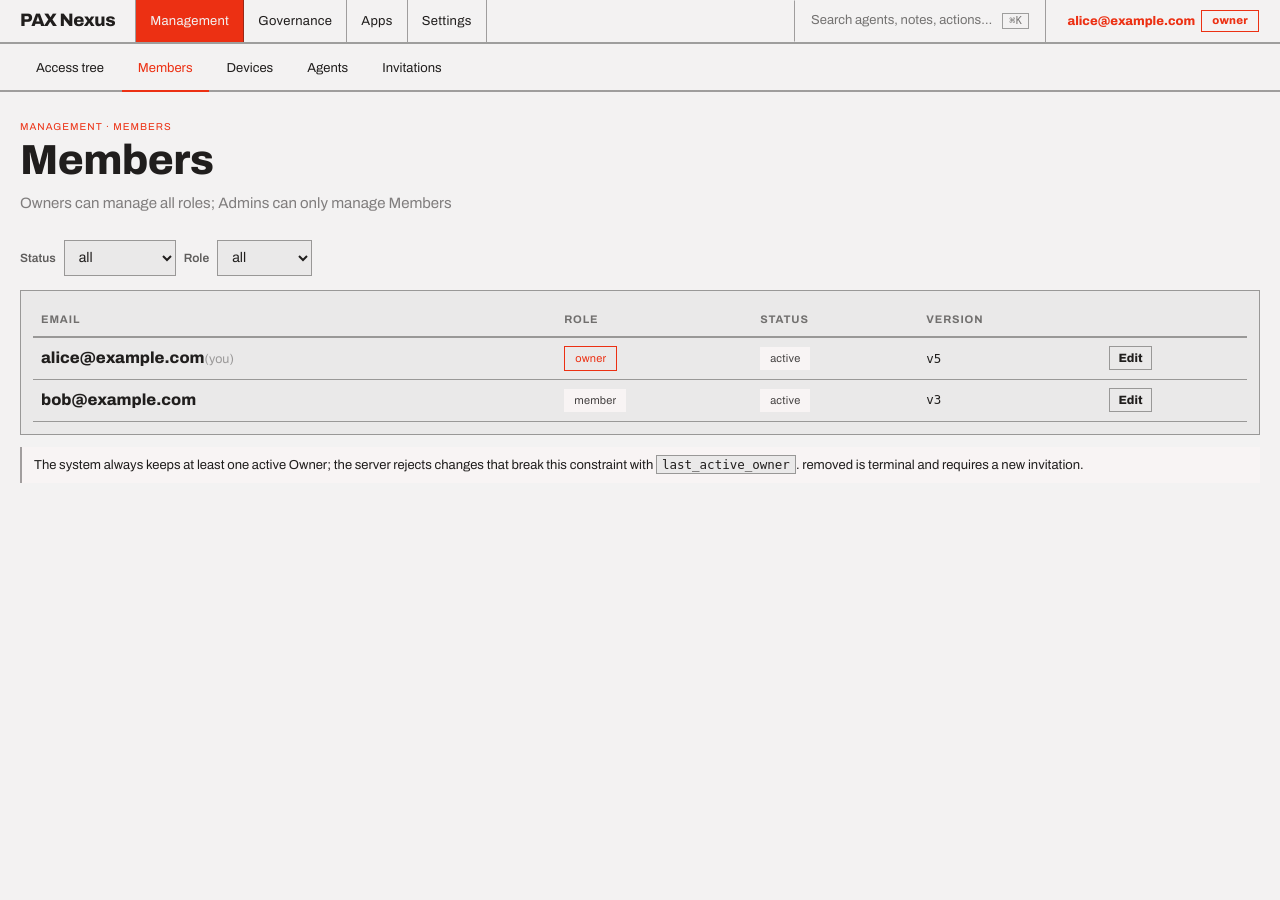
Scenario: section 10 item 7: concurrent member edits › resource_version_conflict refetches the member and refreshes the list
Step 1. Click the button "Edit" in the row of "bob@example.com" → click(1131, 400), box [1110,388,1152,412]
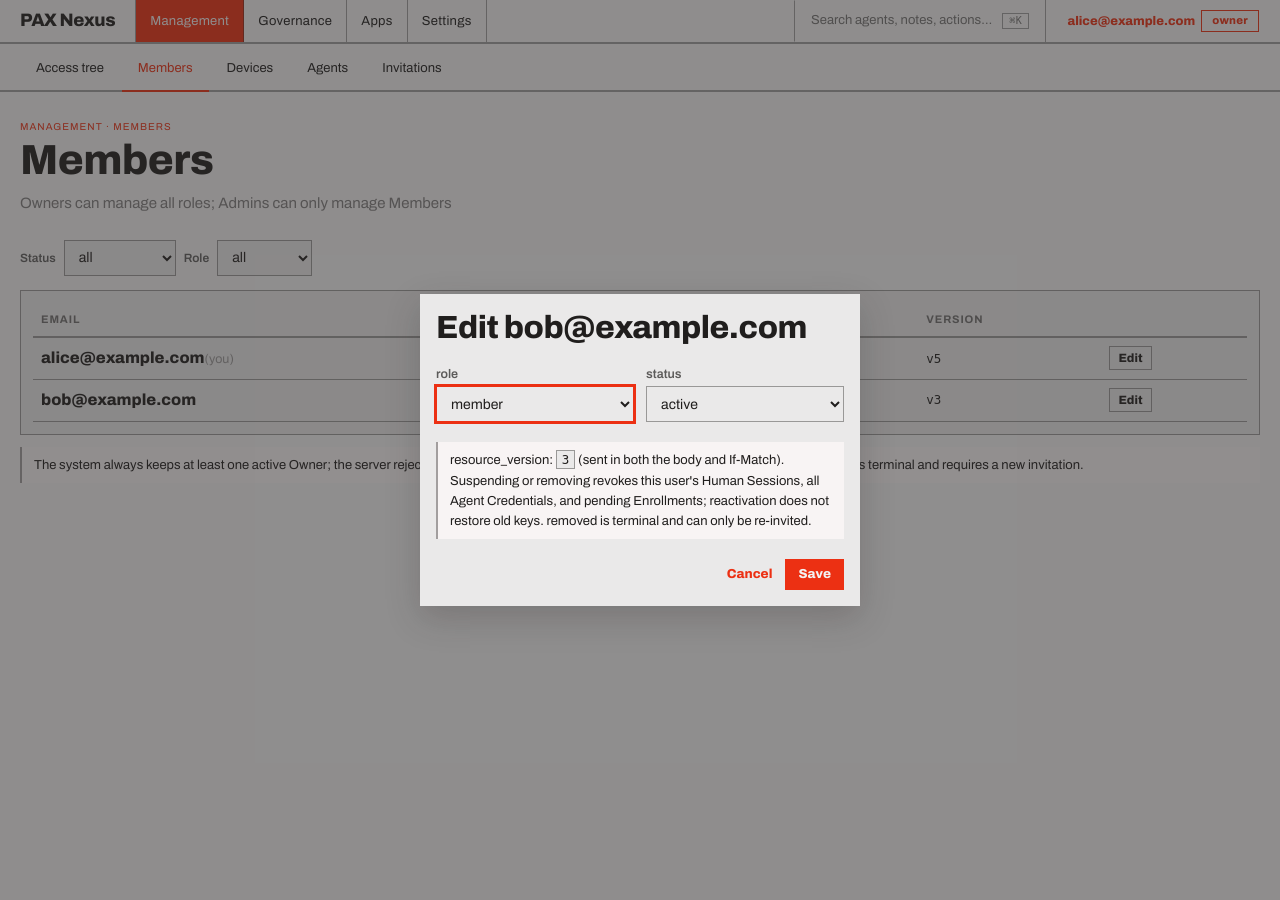
Expected: the heading "Edit bob@example.com" is shown, [436,310,844,346]
Step 2. Select "admin" in the dropdown labelled "role" → (535, 404), box [436,386,634,422]
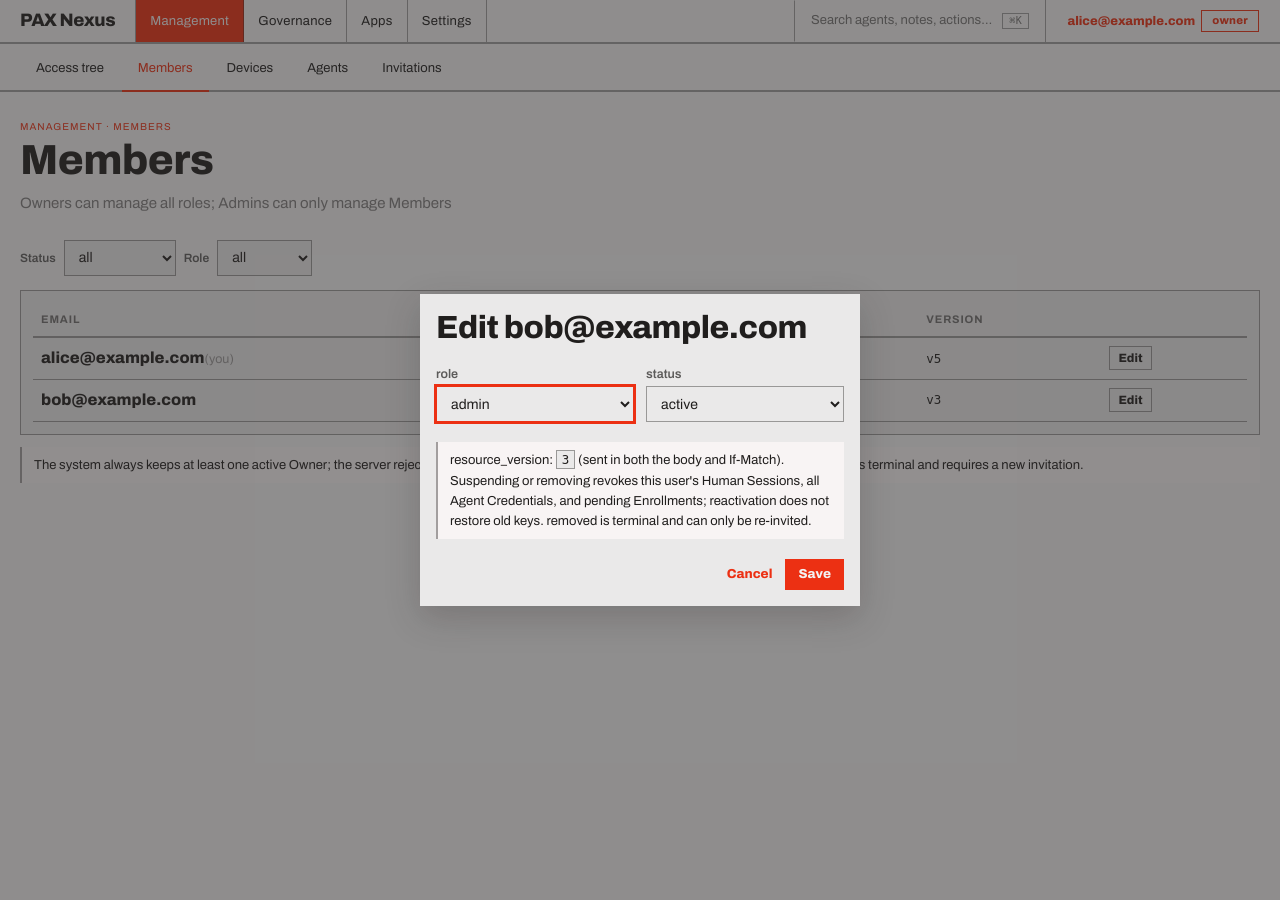
Step 3. Click the button "Save" → click(815, 575), box [785,559,844,590]
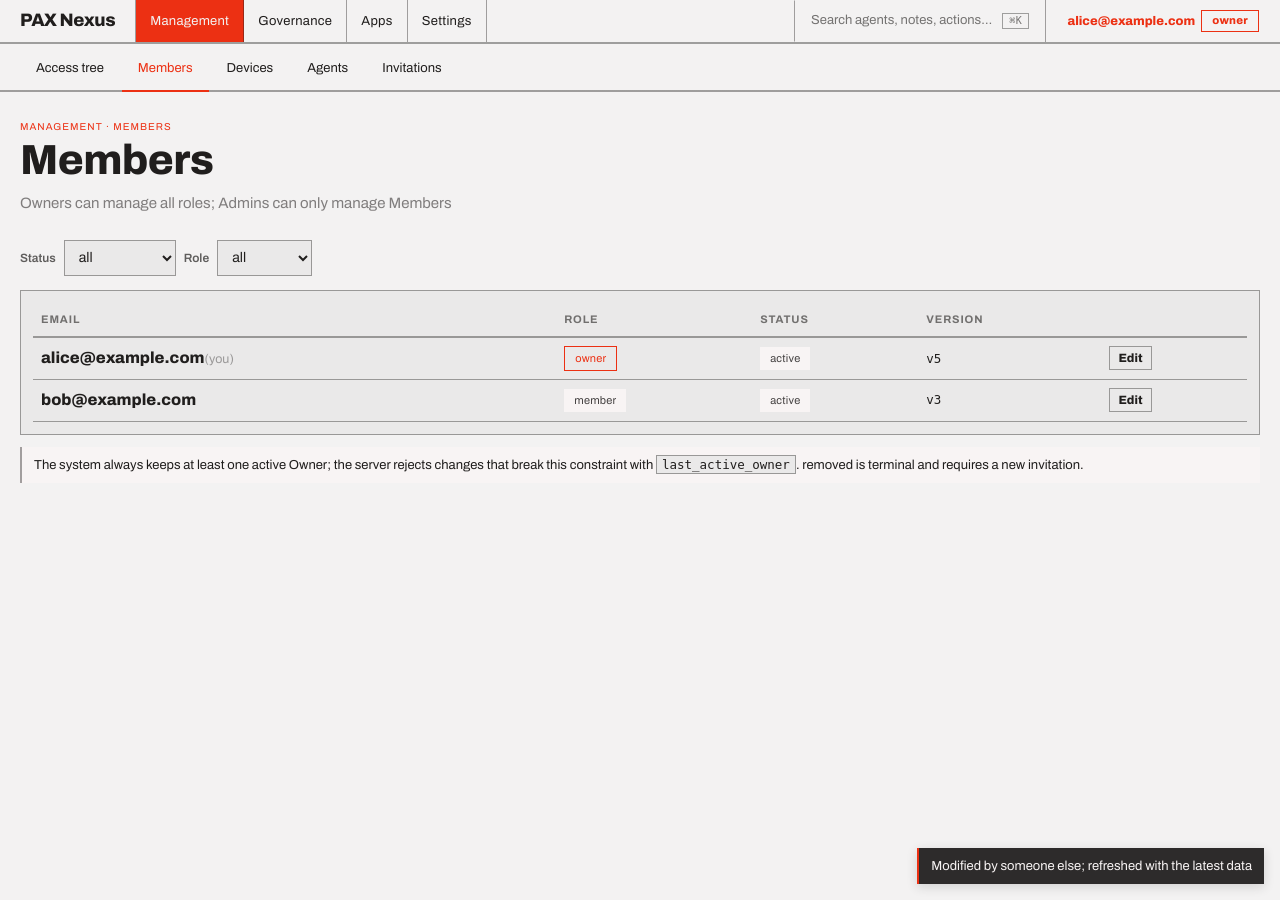
Expected: the text "Modified by someone else; refreshed with the latest data" is shown, [917,848,1264,884]
